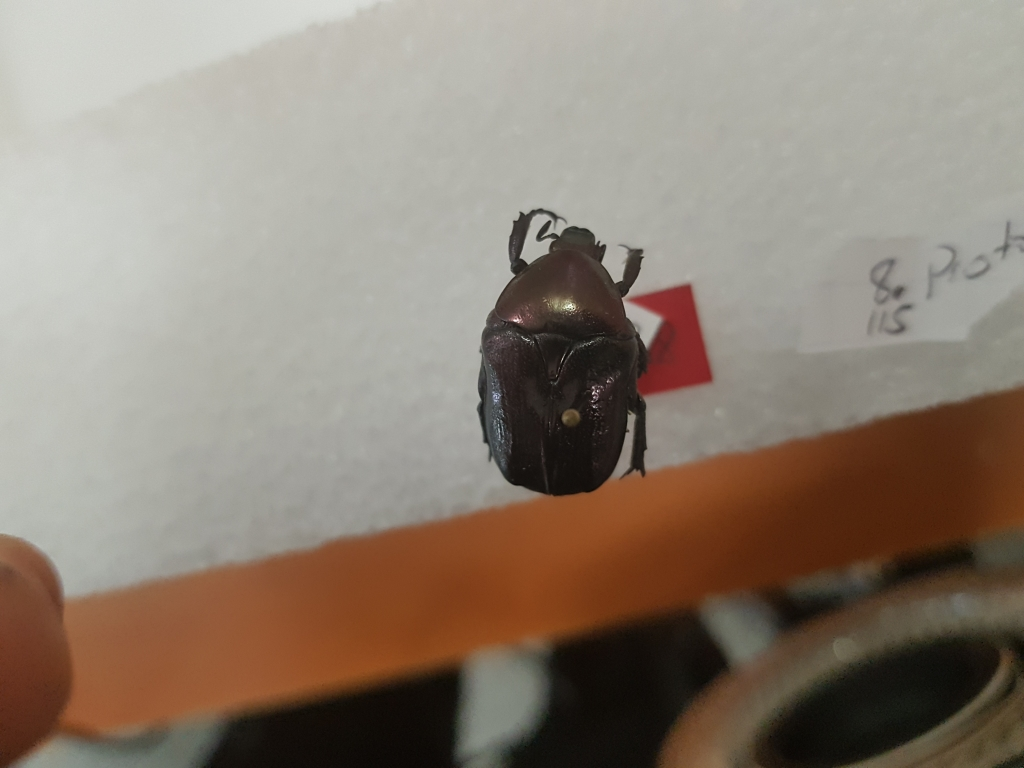Protaetia_besucheti: (474, 195, 678, 490)
